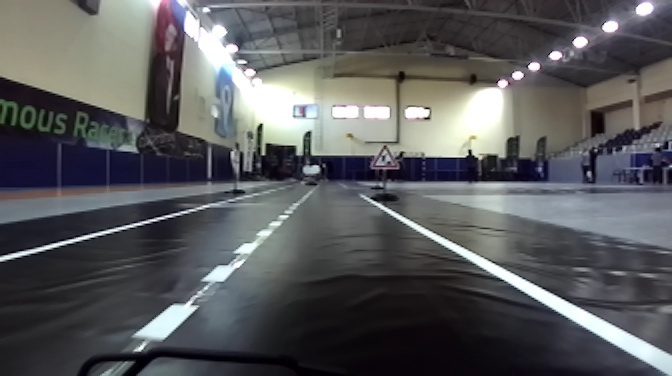yol_yapimi: (368, 138, 399, 170)
